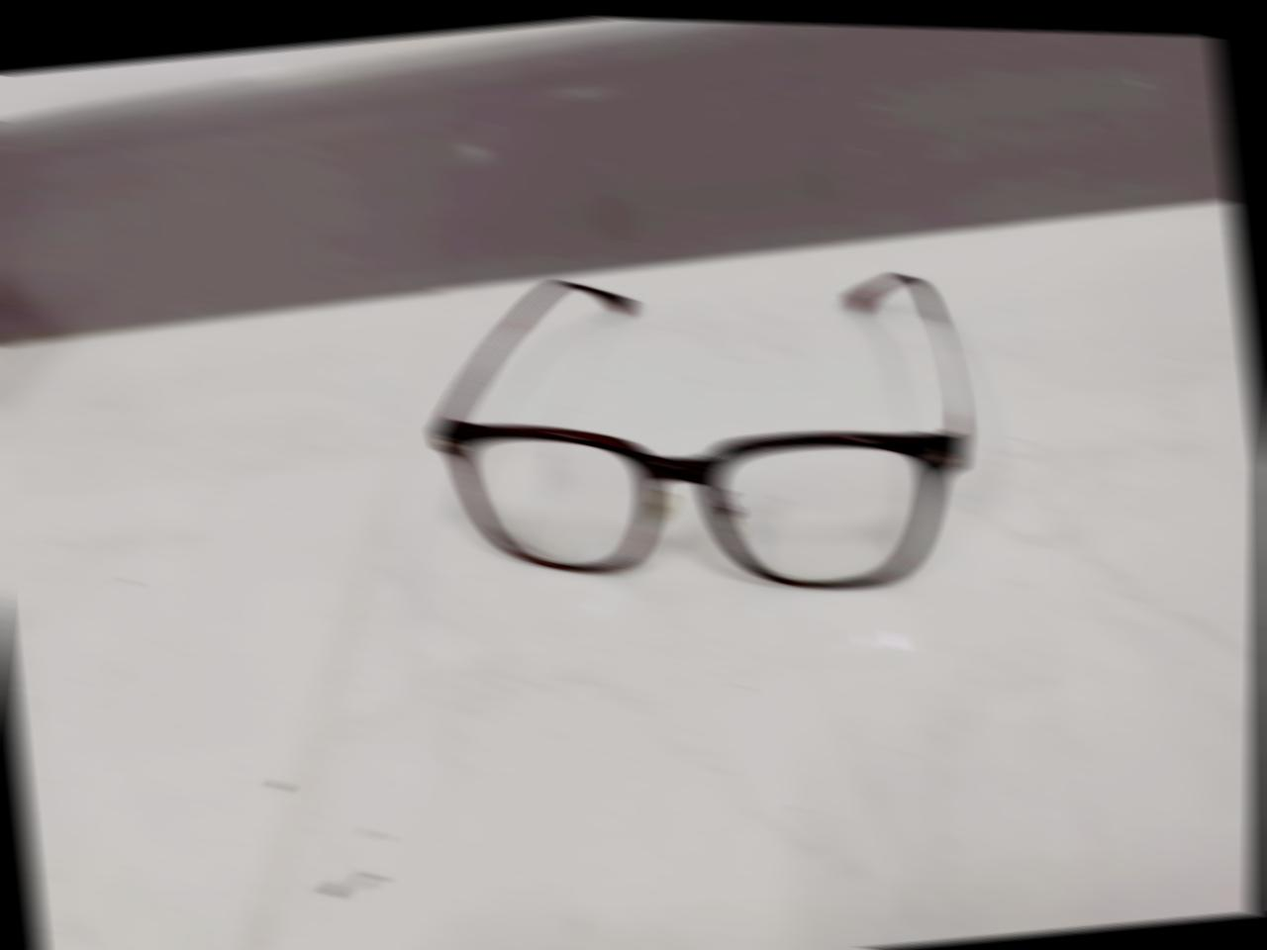glasses: (403, 217, 1016, 662)
